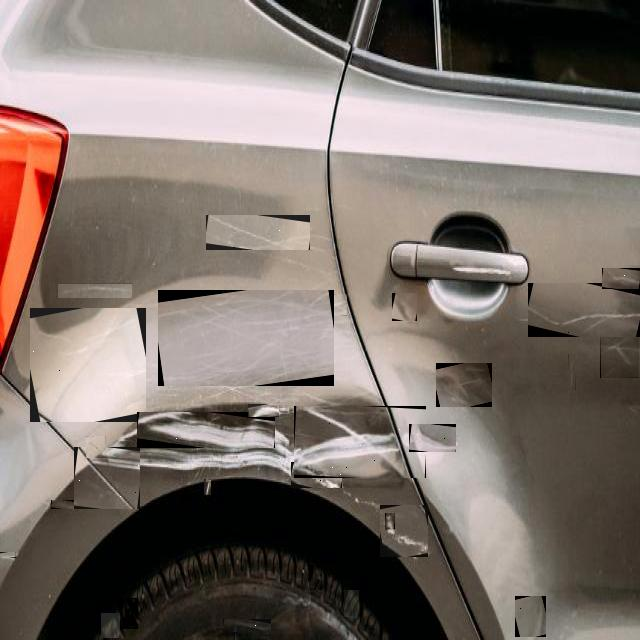Dent: (158, 290, 334, 386), (30, 308, 146, 422), (294, 406, 426, 478), (528, 283, 640, 337), (137, 412, 275, 448), (74, 447, 140, 509), (206, 215, 310, 250), (380, 505, 428, 557), (436, 363, 492, 407), (600, 334, 639, 378), (291, 462, 342, 488), (409, 424, 456, 452), (515, 596, 546, 637), (58, 283, 132, 298), (310, 294, 347, 316), (602, 268, 640, 289), (392, 294, 417, 324), (223, 619, 271, 634), (118, 598, 138, 629), (101, 613, 120, 638), (86, 436, 106, 458), (344, 590, 359, 618), (248, 404, 279, 417), (310, 565, 322, 590), (51, 500, 83, 509), (568, 354, 576, 390), (385, 514, 395, 532), (204, 479, 211, 495), (0, 552, 16, 558)
